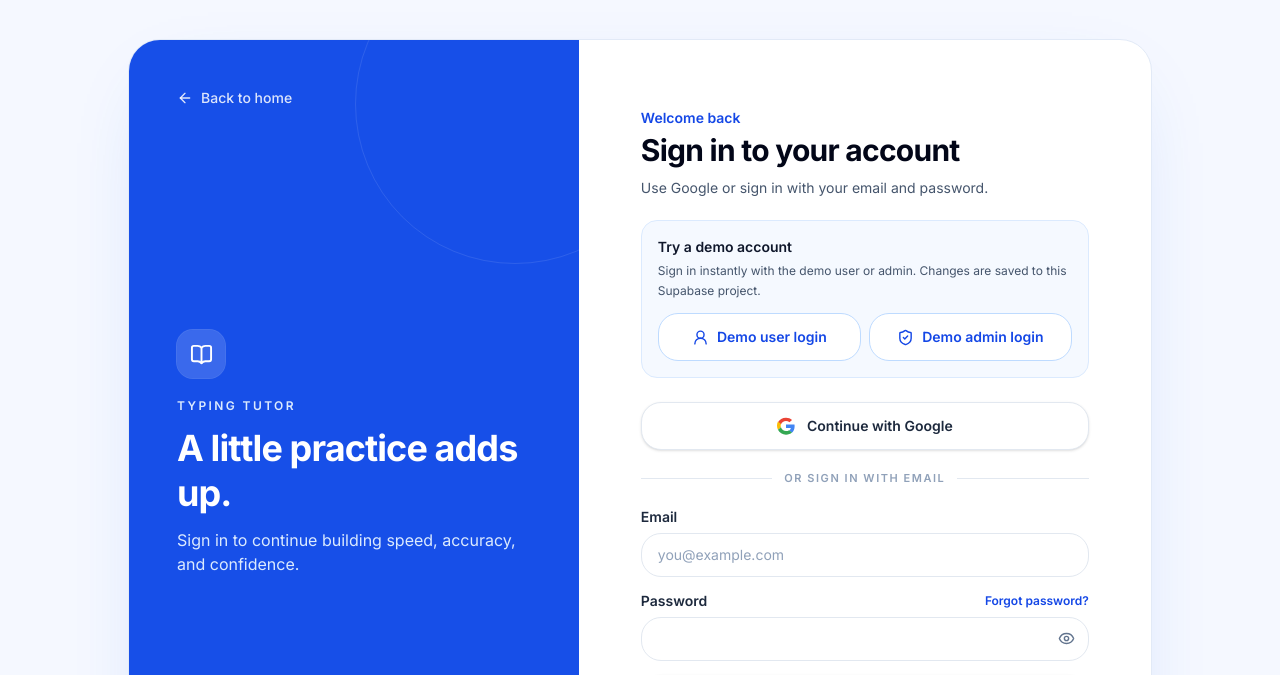
it: Real Supabase demo login › distinguishes a server error with a short message
The width and height of the screenshot is (1280, 675).
Click the button "Demo user login": (759, 337) [658,313,861,361]
(page scrolled)
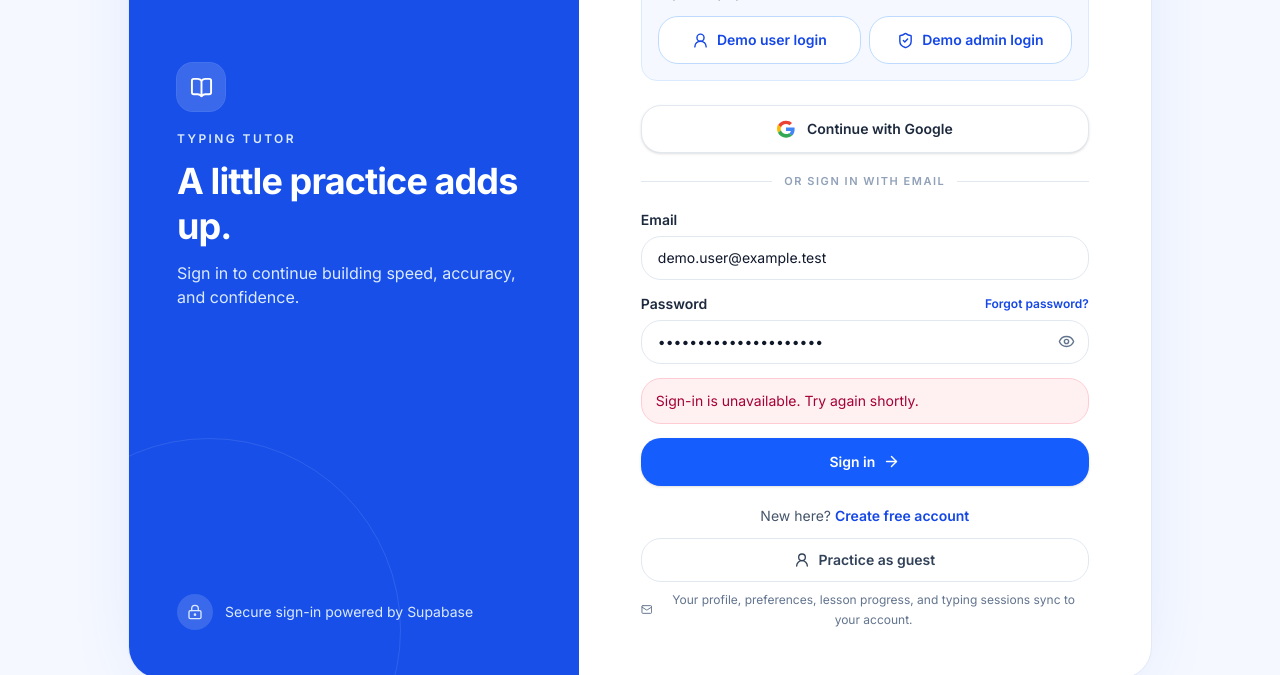
Result: the message "Sign-in is unavailable. Try again shortly." is shown at [641,378,1089,424]
